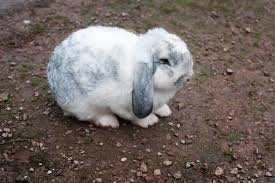bunny: (37, 20, 200, 135)
